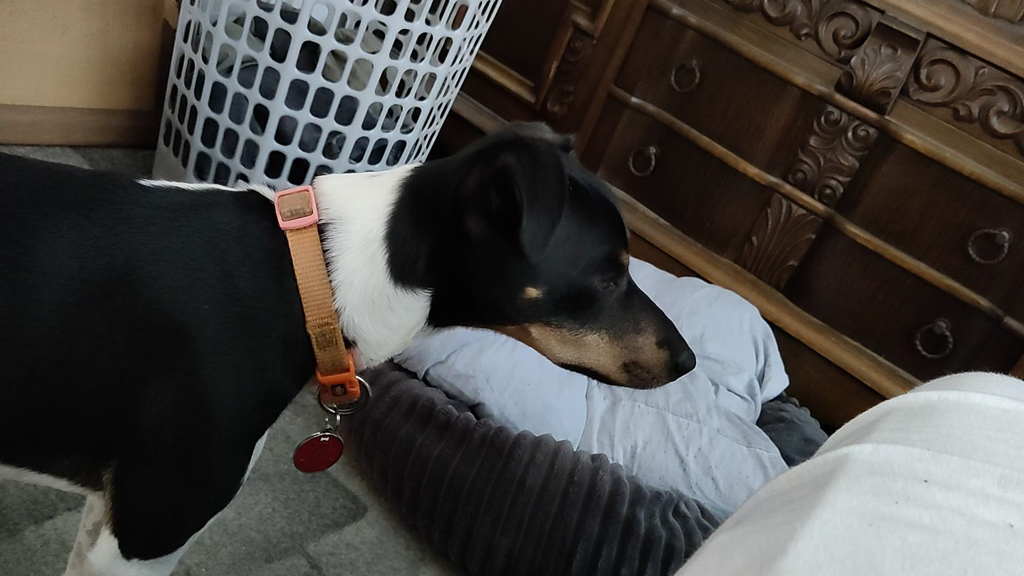Dog: (0, 112, 709, 576)
